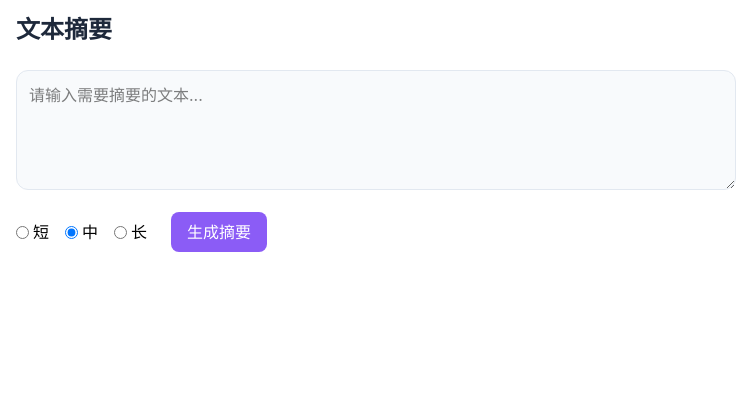
TextSummaryPage › 点击按钮显示摘要结果
Type "这是一段测试文本。用于测试摘要功能。" into the text box with placeholder "请输入需要摘要的文本..." at (376, 130), box x1=16 y1=70 x2=736 y2=190
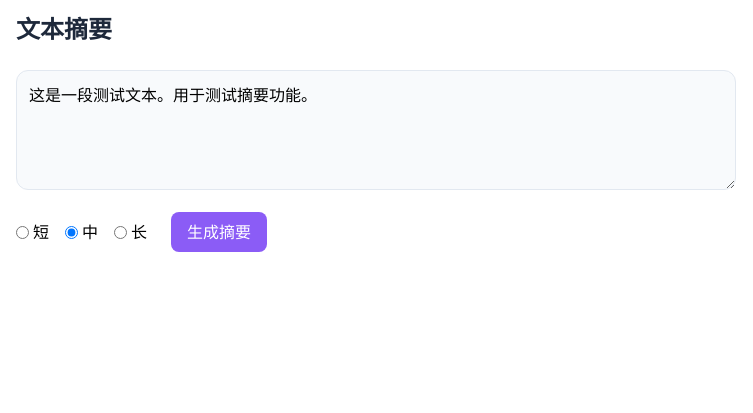
Click the button "生成摘要" at (219, 232), box x1=171 y1=212 x2=267 y2=252
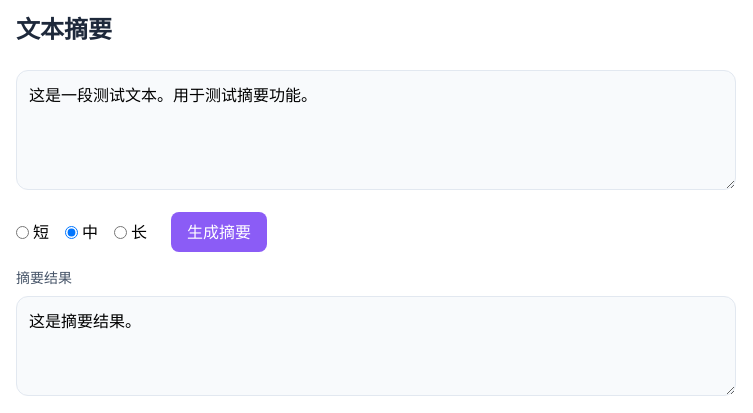
Result: the text box "这是摘要结果。" below "摘要结果" is shown at x1=16 y1=296 x2=736 y2=396
